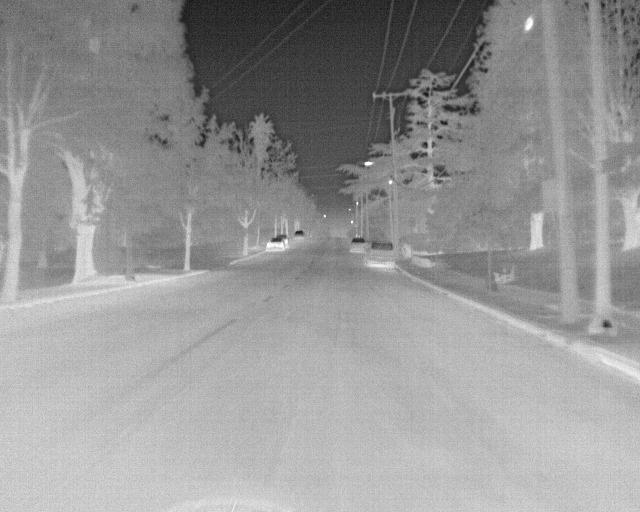car: (362, 238, 398, 269), (347, 236, 374, 252), (262, 235, 286, 251), (291, 225, 307, 242)
